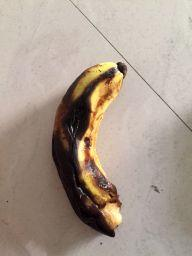banana: (49, 58, 130, 240)
